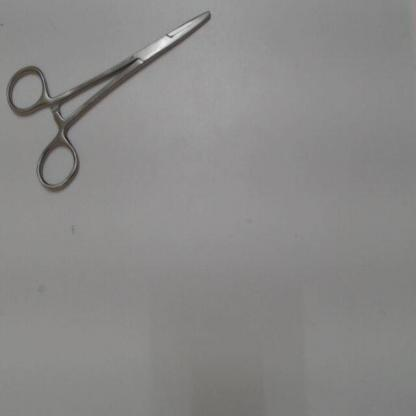Mayo Needle Holder: (2, 3, 229, 202)
